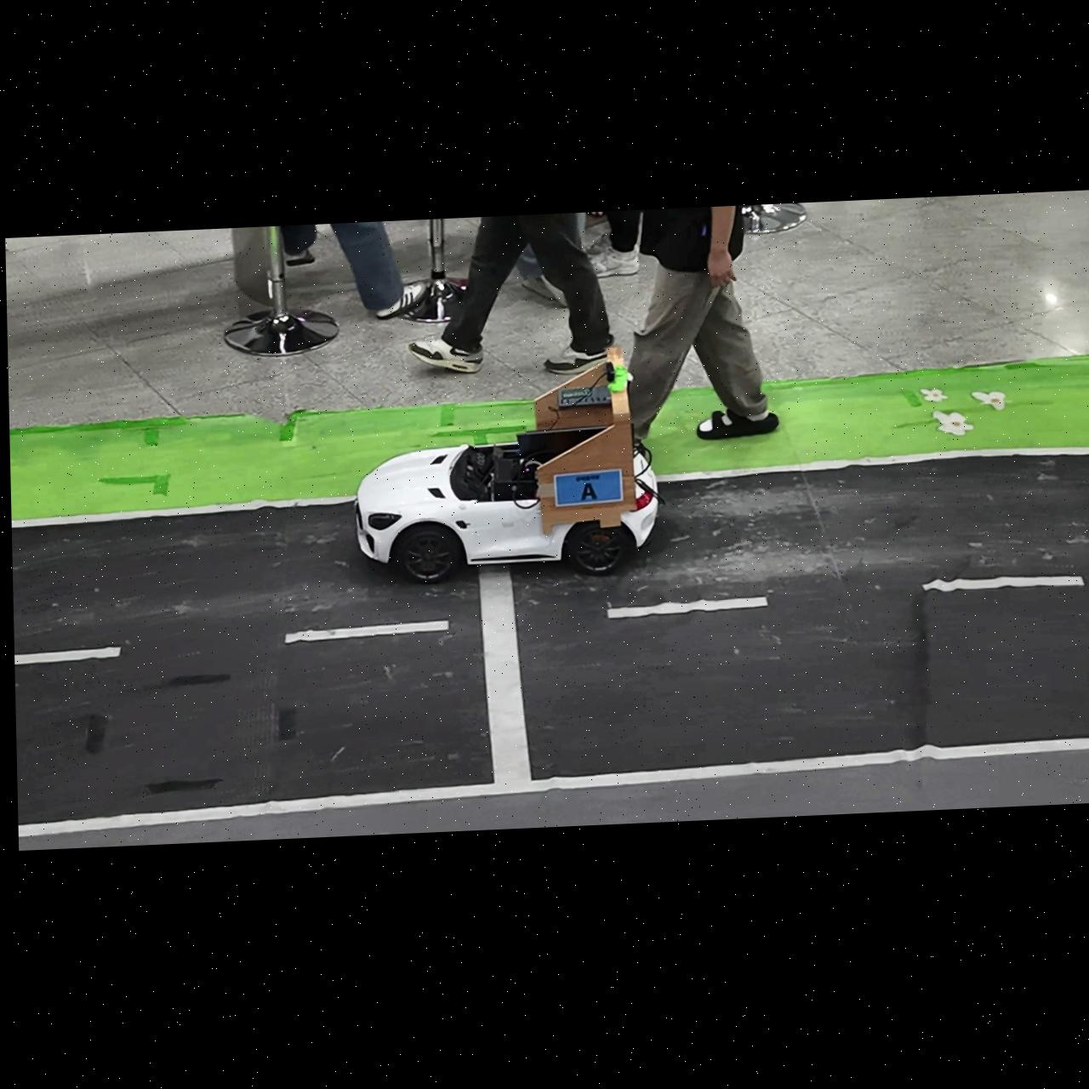broken_line: (285, 621, 449, 644), (607, 596, 767, 619), (923, 576, 1085, 592), (15, 647, 121, 665)
